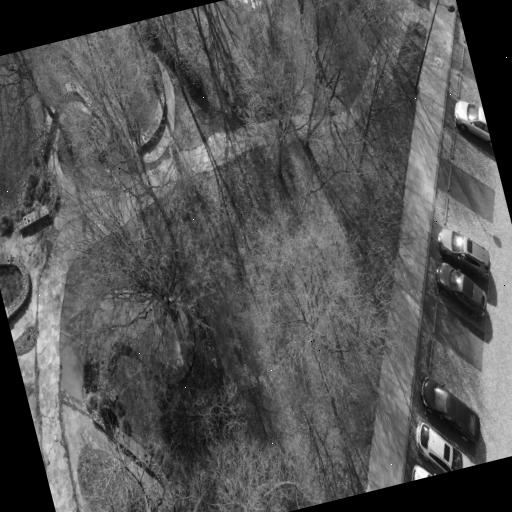person: (420, 377, 479, 443), (435, 263, 486, 318), (415, 423, 472, 472), (437, 228, 489, 279), (454, 101, 491, 146), (411, 465, 430, 480)
